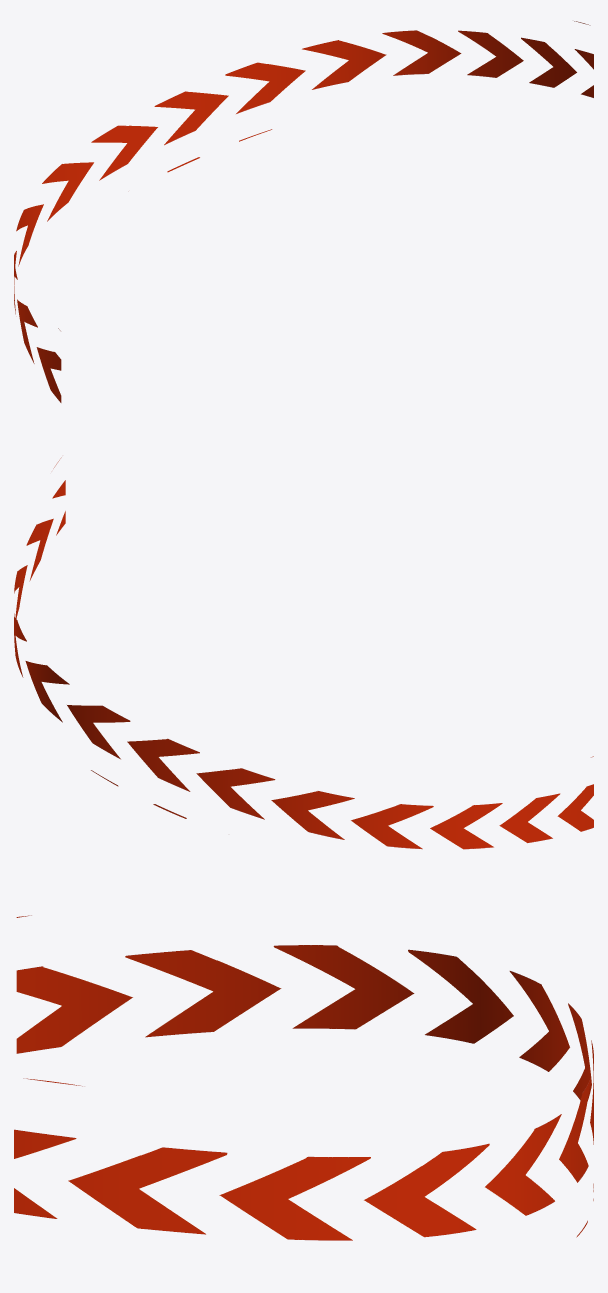
The model's file is liftArrows.fbx.
The picture shows the model from 3 angles, top to bottom: view 1: azimuth 30°, elevation 25°; view 2: azimuth 150°, elevation 25°; view 3: azimuth 270°, elevation 25°; orthographic projection. The views are drawn at different scales.
Visible parts, largest first — view 1: NurbsPath.002; view 2: NurbsPath.002; view 3: NurbsPath.002.
Part boxes in pixels (box(x1,y1,x2,y2)): NurbsPath.002: box(14, 21, 593, 402); NurbsPath.002: box(14, 457, 593, 849); NurbsPath.002: box(14, 915, 593, 1240).
Bounding box in the file's own units: 16.68 × 8.01 × 8.29.
Materials: 1 (1 with a texture image).
